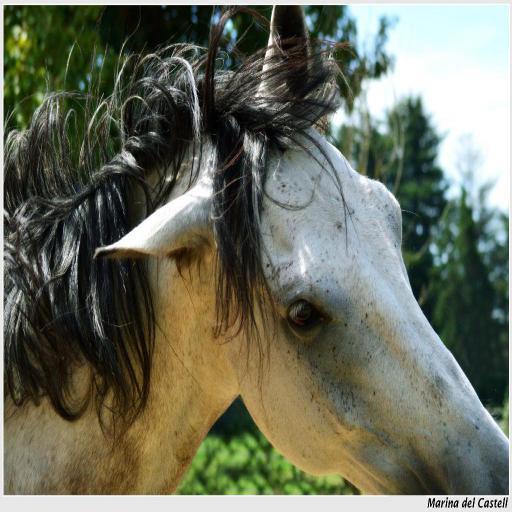horse: (2, 6, 510, 494)
